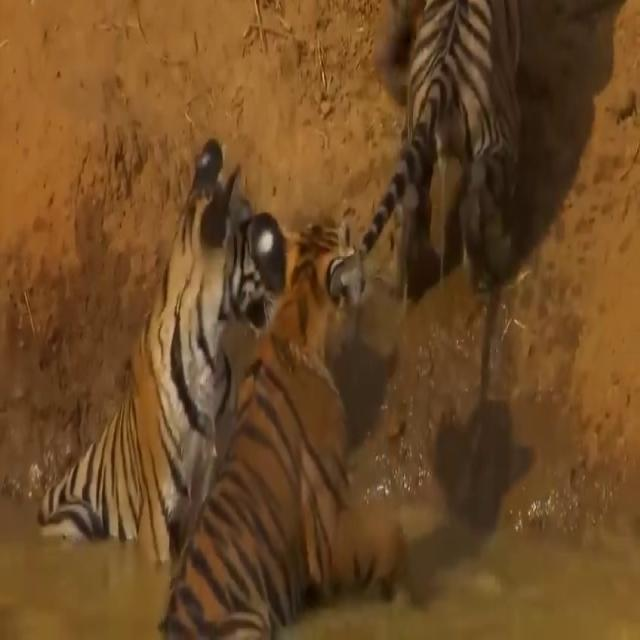tiger: (152, 201, 413, 640), (36, 135, 283, 566)
